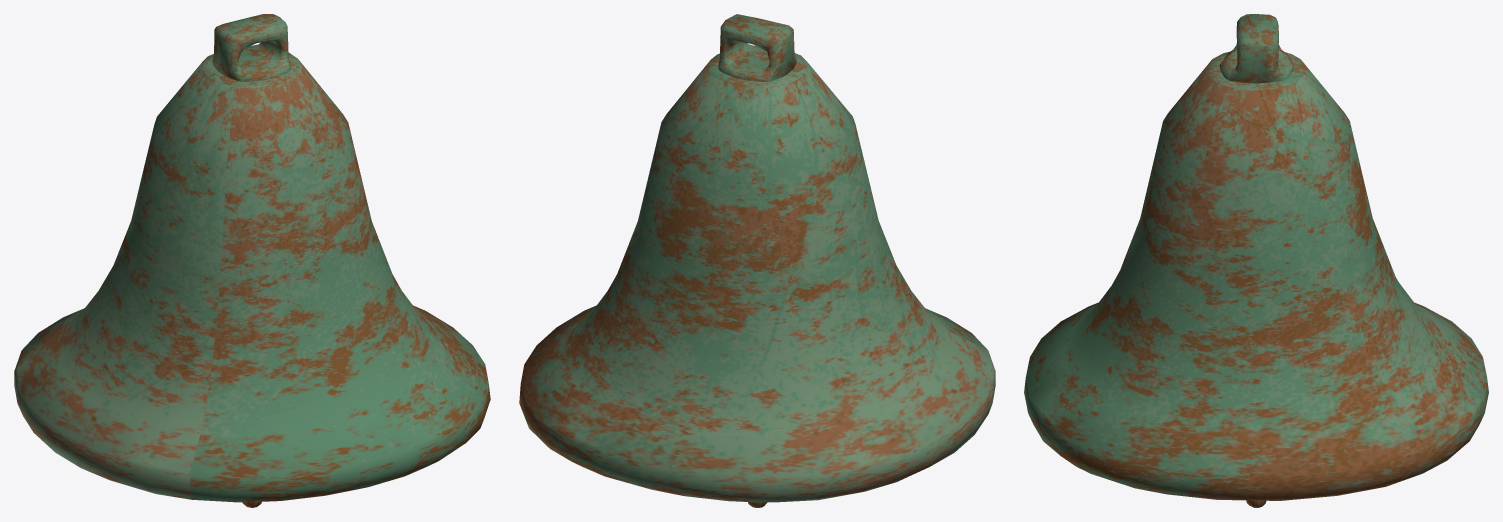
File: Group prj - Bell Ver Low Pol.fbx
3 renders of one model, left to right at view 1: azimuth 30°, elevation 25°; view 2: azimuth 150°, elevation 25°; view 3: azimuth 270°, elevation 25°, orthographic.
Visible parts, largest first — view 1: Bell; view 2: Bell; view 3: Bell.
Part boxes in pixels (bbox=[...]): Bell: bbox=[14, 14, 490, 502]; Bell: bbox=[519, 14, 995, 502]; Bell: bbox=[1024, 14, 1488, 500].
Bounding box in the file's own units: 263 × 299 × 263.
2 materials, 2 textured.
